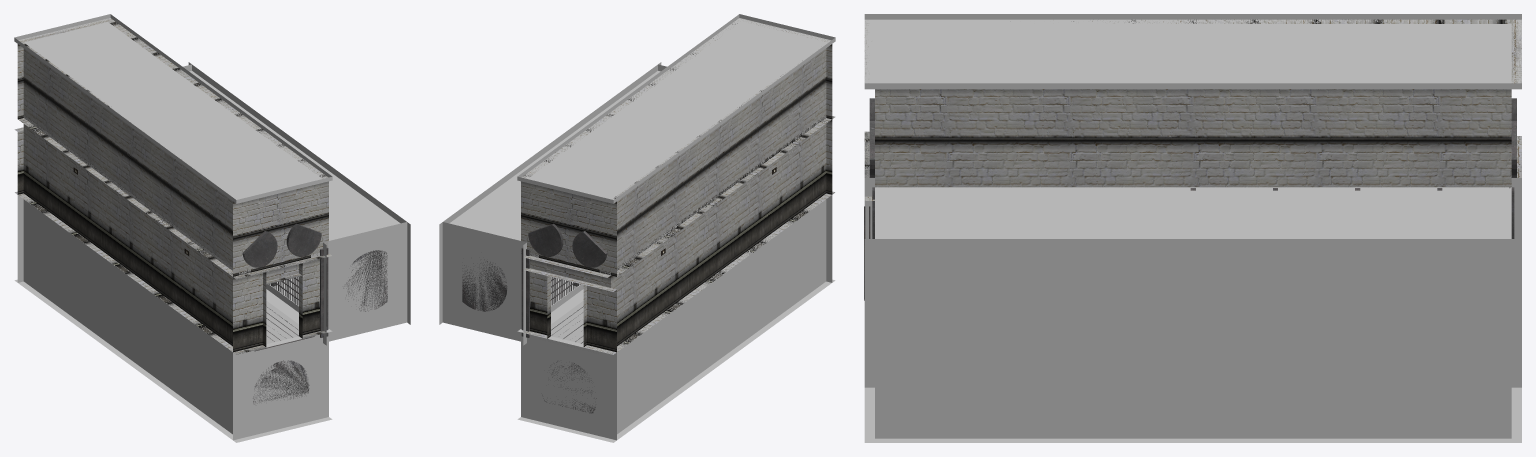
The model's file is HC_room2_pipes2.obj.
3 renders of one model, left to right at view 1: azimuth 30°, elevation 25°; view 2: azimuth 150°, elevation 25°; view 3: azimuth 270°, elevation 25°, orthographic. The views are drawn at different scales.
Visible parts, largest first — view 1: room2pipes2_opt.002; view 2: room2pipes2_opt.002; view 3: room2pipes2_opt.002.
Boxes of the visible parts, x1,y1,x2,y2 form: room2pipes2_opt.002: (14,14,410,442); room2pipes2_opt.002: (439,14,835,442); room2pipes2_opt.002: (864,14,1521,442).
Size of the model in its own units: 9.28 by 12.36 by 20.5.
